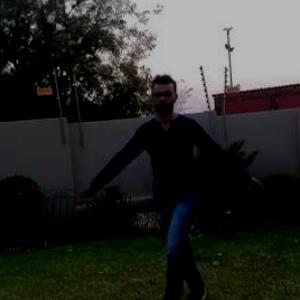land: (85, 74, 265, 299)
